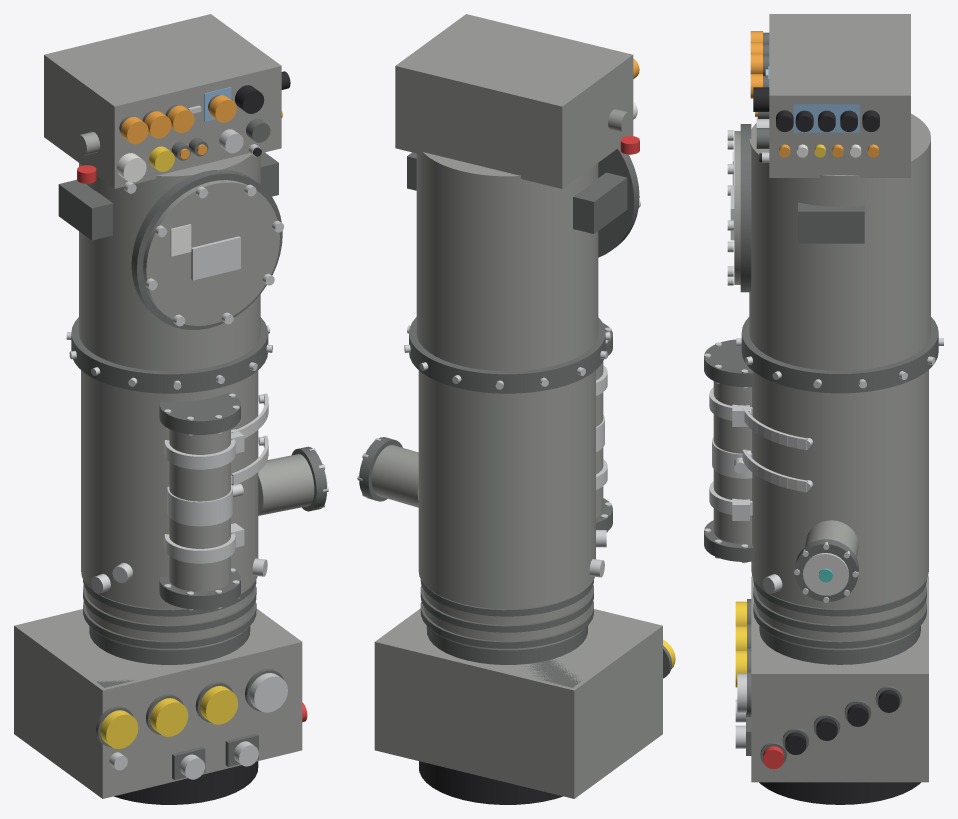
File: generador_oxigeno_elektron.glb
3 renders of one model, left to right at view 1: azimuth 30°, elevation 25°; view 2: azimuth 150°, elevation 25°; view 3: azimuth 270°, elevation 25°, orthographic.
Visible parts, largest first — view 1: Elektron_Metal_Gris, Elektron_Metal_Oscuro, Elektron_Acero, Elektron_Amarillo, Elektron_Negro, Elektron_Naranja, Elektron_Blanco; view 2: Elektron_Metal_Gris, Elektron_Metal_Oscuro, Elektron_Negro, Elektron_Acero; view 3: Elektron_Metal_Gris, Elektron_Metal_Oscuro, Elektron_Acero, Elektron_Negro, Elektron_Naranja, Elektron_Azul_Panel, Elektron_Amarillo.
Boxes of the visible parts, x1,y1,x2,y2 form: Elektron_Metal_Gris: [14, 14, 314, 798]; Elektron_Metal_Oscuro: [58, 95, 326, 779]; Elektron_Acero: [66, 105, 328, 779]; Elektron_Amarillo: [100, 146, 238, 748]; Elektron_Negro: [114, 71, 290, 804]; Elektron_Naranja: [121, 95, 282, 159]; Elektron_Blanco: [117, 153, 191, 256]; Elektron_Metal_Gris: [371, 14, 662, 798]; Elektron_Metal_Oscuro: [359, 146, 671, 687]; Elektron_Negro: [419, 761, 562, 804]; Elektron_Acero: [357, 200, 640, 577]; Elektron_Metal_Gris: [713, 14, 930, 782]; Elektron_Metal_Oscuro: [704, 32, 938, 763]; Elektron_Acero: [704, 69, 943, 748]; Elektron_Negro: [753, 87, 920, 804]; Elektron_Naranja: [750, 31, 879, 157]; Elektron_Azul_Panel: [768, 66, 859, 132]; Elektron_Amarillo: [735, 144, 825, 687].
Bounding box in the file's own units: 0.8184 × 2.12 × 0.6492.
